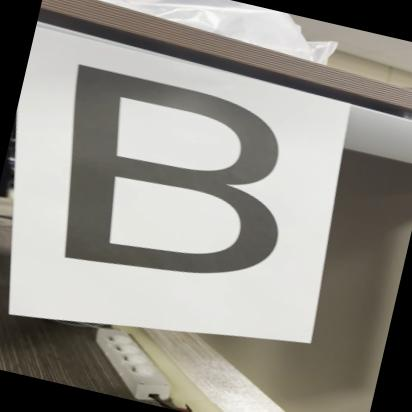seat: (13, 46, 344, 324)
